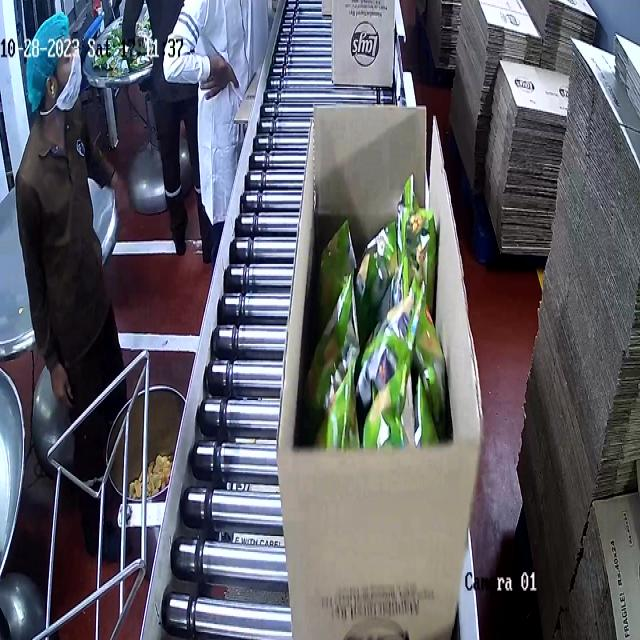YOGURT_HERB: (308, 178, 448, 448)
